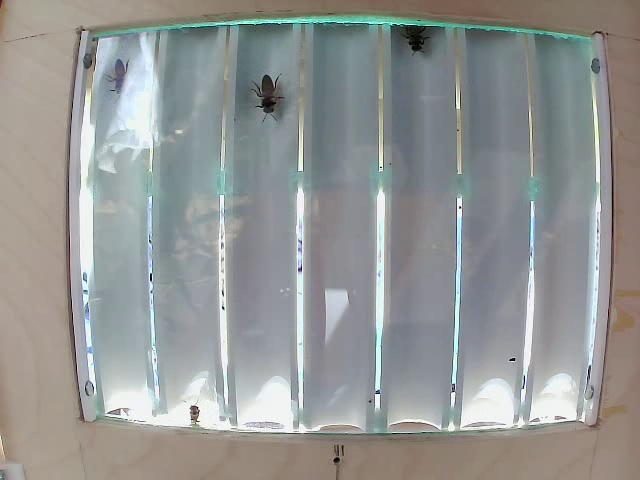bee: (243, 69, 284, 131), (109, 58, 142, 102), (399, 17, 426, 62)
